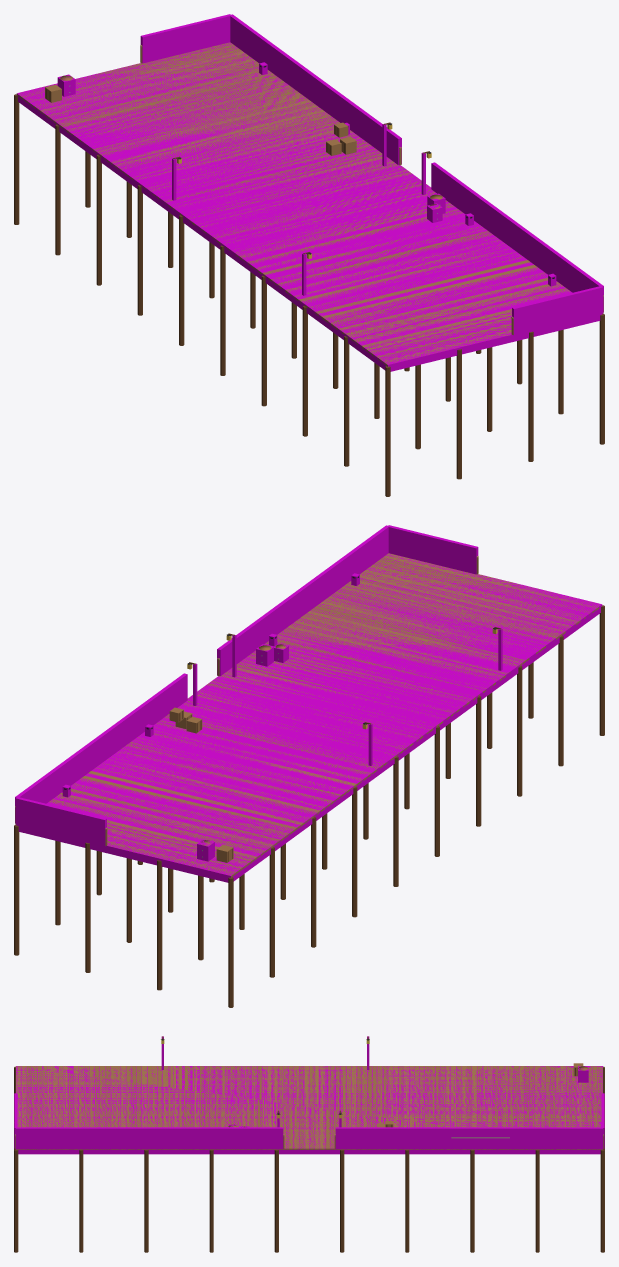
Rendered from dock.glb.
The picture shows the model from 3 angles, top to bottom: view 1: azimuth 30°, elevation 25°; view 2: azimuth 150°, elevation 25°; view 3: azimuth 270°, elevation 25°; orthographic projection. The views are drawn at different scales.
Visible parts, largest first — view 1: COL_dock, dock, COLP_dock; view 2: COL_dock, dock, COLP_dock; view 3: dock, COL_dock, COLP_dock.
Boxes of the visible parts, <box> form: COL_dock: <box>16,42,602,371</box>; dock: <box>14,42,604,496</box>; COLP_dock: <box>140,14,603,335</box>; COL_dock: <box>16,553,602,882</box>; dock: <box>14,553,604,1007</box>; COLP_dock: <box>15,525,502,846</box>; dock: <box>14,1036,604,1252</box>; COL_dock: <box>16,1066,602,1154</box>; COLP_dock: <box>14,1036,604,1149</box>.
Bounding box in the file's own units: 12.23 × 9.23 × 36.26.
